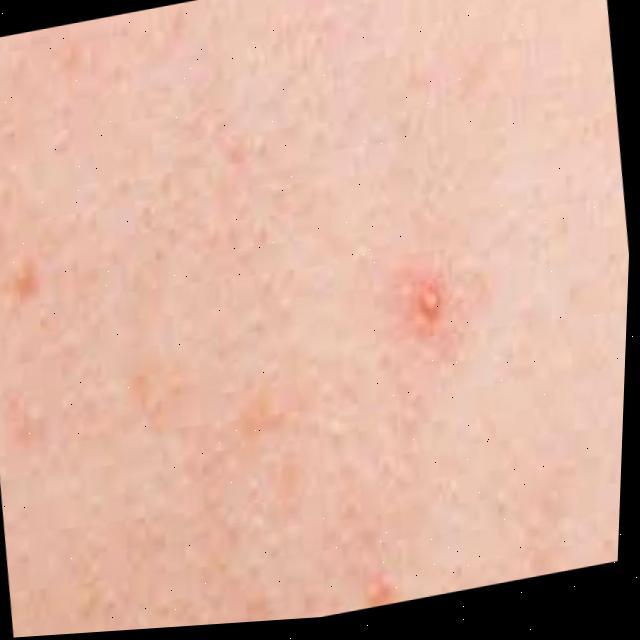Eczema: (360, 256, 461, 343)
